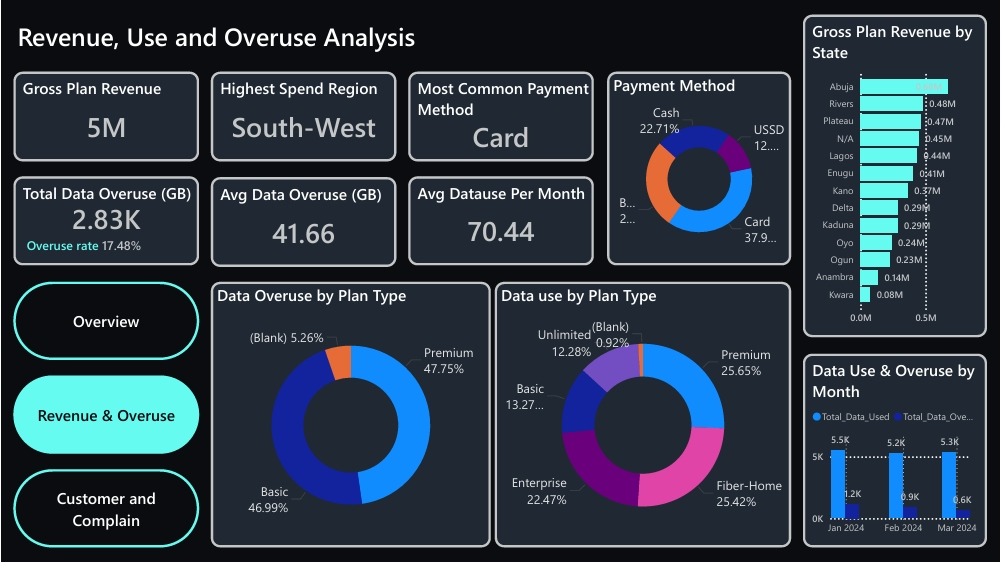

This screenshot's page, from the dashboard's own definition file:
{"tool":"powerbi","page":{"name":"Revenue & Overuse","canvas":[1280,720],"ordinal":1},"visuals":[{"type":"clusteredColumnChart","title":"Data Use & Overuse by Month","fields":{"Y":["Billing_Data.Total_Data_Used","Billing_Data.Total_Data_OverUse"],"Category":["Billing_Data.BillingMonth"]},"box":[1027.1,452.9,235.8,247.8],"z":2000},{"type":"donutChart","title":"Data Overuse by Plan Type","fields":{"Y":["Billing_Data.Total_Data_OverUse"],"Category":["Plans_Table.PlanName"]},"box":[268.3,360.6,358.9,340.1],"z":3000},{"type":"pageNavigator","box":[15.4,360.6,237.5,340.1],"z":4000},{"type":"textbox","box":[15.4,18.8,996.3,54.7],"z":5000},{"type":"cardVisual","title":"Most Common Payment Method","fields":{"Data":["Billing_Data.Most_Common_Payment_Method"]},"box":[521.2,92.3,237.5,114.5],"z":6000},{"type":"cardVisual","title":"Avg Data Overuse (GB)","fields":{"Data":["Billing_Data.Avg_Data_Overuse"]},"box":[268.3,227.3,237.5,114.5],"z":7000},{"type":"cardVisual","title":"Gross Plan Revenue","fields":{"Data":["Billing_Data.Total_Plan_Bill_Amount"]},"box":[15.4,92.3,237.5,114.5],"z":8000},{"type":"cardVisual","title":"Highest Spend Region","fields":{"Data":["Billing_Data.Highest_Transaction_Region"]},"box":[268.3,92.3,237.5,114.5],"z":9000},{"type":"cardVisual","title":"Total Data Overuse (GB)","fields":{"Data":["Billing_Data.Total_Data_OverUse"]},"box":[15.4,225.6,237.5,114.5],"z":10000},{"type":"clusteredBarChart","title":"Gross Plan Revenue by State","fields":{"Category":["Customers_Data.State"],"Y":["Billing_Data.Total_Plan_Bill_Amount"]},"box":[1027.1,18.8,235.8,413.6],"z":11000},{"type":"donutChart","title":"Data use by Plan Type","fields":{"Y":["Billing_Data.Total_Data_Used"],"Category":["Plans_Table.PlanName"]},"box":[632.3,360.6,379.4,340.1],"z":12000},{"type":"donutChart","title":"Payment Method","fields":{"Category":["Billing_Data.PaymentMethod"],"Y":["CountNonNull(Billing_Data.TransactionID)"]},"box":[775.9,92.3,235.8,247.8],"z":13000},{"type":"cardVisual","title":"Avg Datause Per Month","fields":{"Data":["Billing_Data.Avg_Data_use"]},"box":[521.2,225.6,237.5,114.5],"z":14000}]}

Visuals, with their boxes in screenshot pixels (x1, y1, x2, y2), scaled from the page's 1280x720 canvas onto the 1001x562 screenshot:
"Data Use & Overuse by Month" clusteredColumnChart: left=803, top=354, right=988, bottom=547
"Data Overuse by Plan Type" donutChart: left=210, top=281, right=490, bottom=547
pageNavigator: left=12, top=281, right=198, bottom=547
textbox: left=12, top=15, right=791, bottom=57
"Most Common Payment Method" cardVisual: left=408, top=72, right=593, bottom=161
"Avg Data Overuse (GB)" cardVisual: left=210, top=177, right=396, bottom=267
"Gross Plan Revenue" cardVisual: left=12, top=72, right=198, bottom=161
"Highest Spend Region" cardVisual: left=210, top=72, right=396, bottom=161
"Total Data Overuse (GB)" cardVisual: left=12, top=176, right=198, bottom=265
"Gross Plan Revenue by State" clusteredBarChart: left=803, top=15, right=988, bottom=338
"Data use by Plan Type" donutChart: left=494, top=281, right=791, bottom=547
"Payment Method" donutChart: left=607, top=72, right=791, bottom=265
"Avg Datause Per Month" cardVisual: left=408, top=176, right=593, bottom=265
